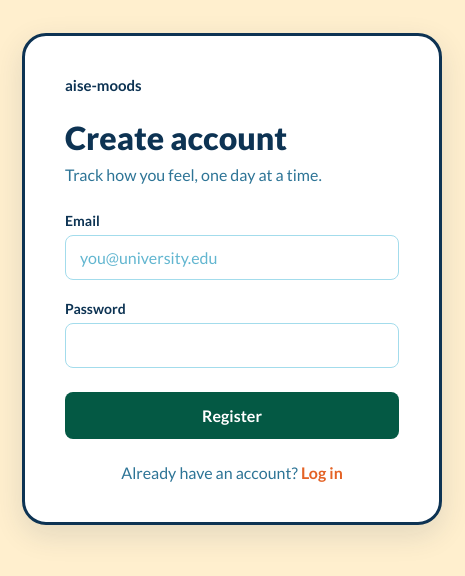
Scenario: Register screen › Input validation › shows error when password is too short
The width and height of the screenshot is (465, 576).
In the field labelled "Email": [232, 258] box [65, 235, 399, 280], type "user@example.com"
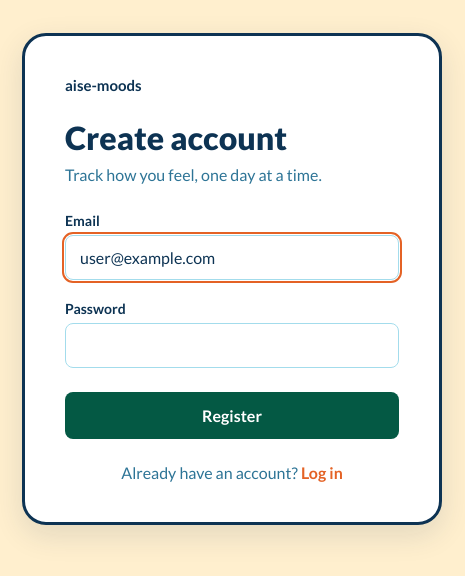
In the password field labelled "Password": [232, 346] box [65, 323, 399, 368], type "short"
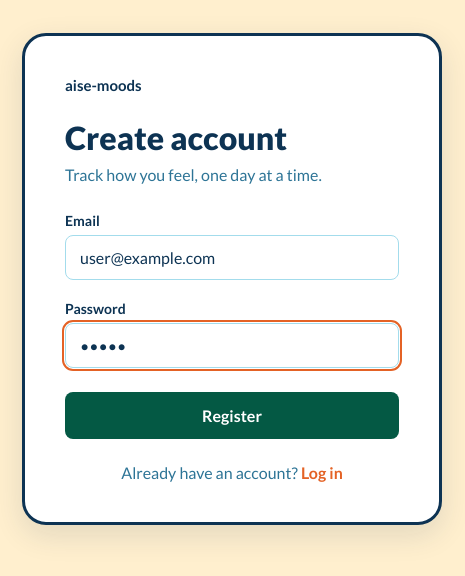
Click the button "Register": [232, 416] box [65, 392, 399, 439]
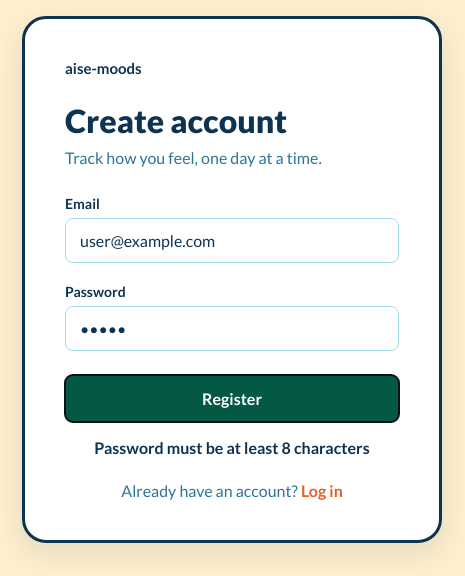
Result: the text "Password must be at least 8 characters" is shown at [94, 438, 370, 456]
